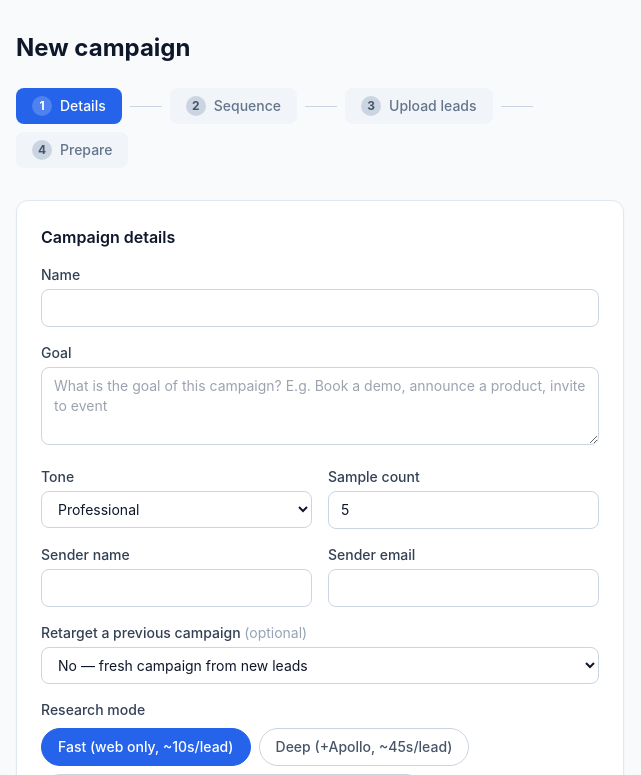
Test: Submitting step 1 › shows error on create failure
Expected: the heading "Campaign details" is shown, left=41, top=227, right=175, bottom=247
In the field labelled "Name": (320, 308) left=41, top=289, right=599, bottom=327, type "Spring outreach"
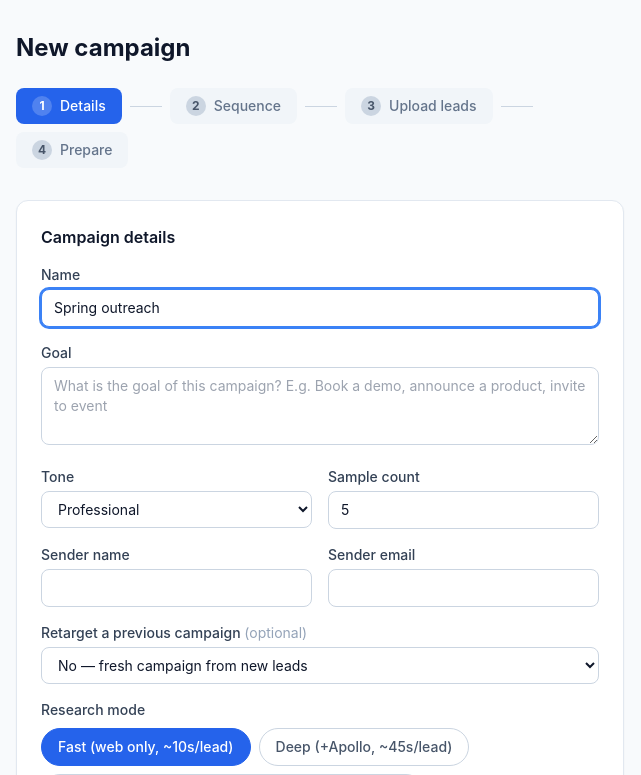
In the text box labelled "Goal": (320, 406) left=41, top=367, right=599, bottom=445, type "Book a discovery call"
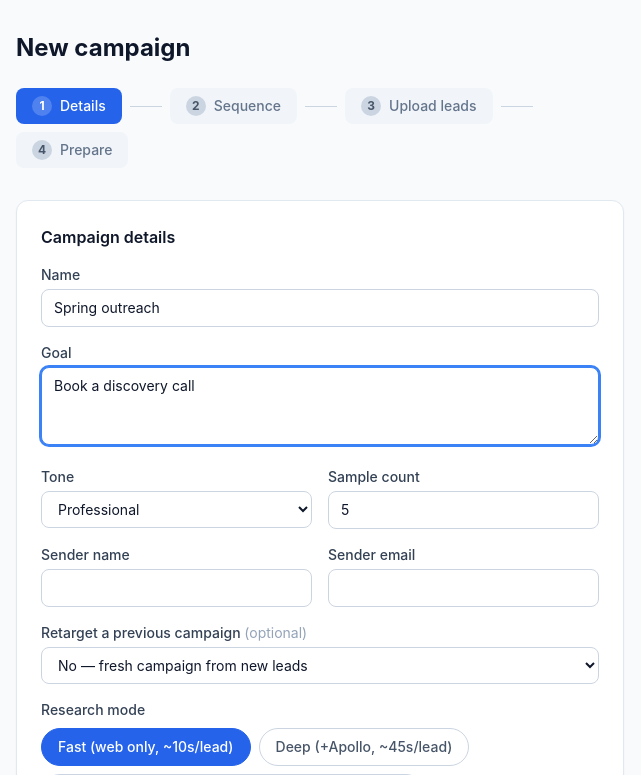
In the field labelled "Sender name": (176, 588) left=41, top=569, right=312, bottom=607, type "Anthony"
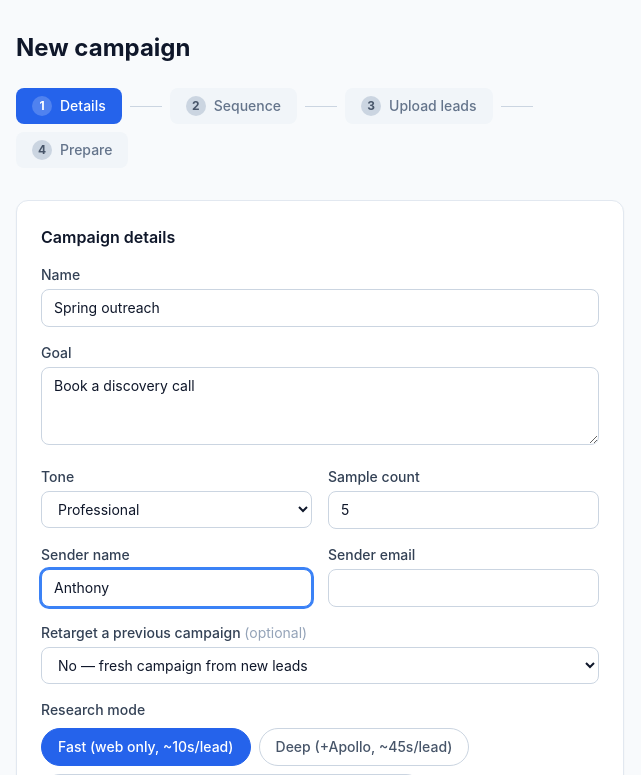
In the field labelled "Sender email": (464, 588) left=328, top=569, right=599, bottom=607, type "me@example.com"
(page scrolled)
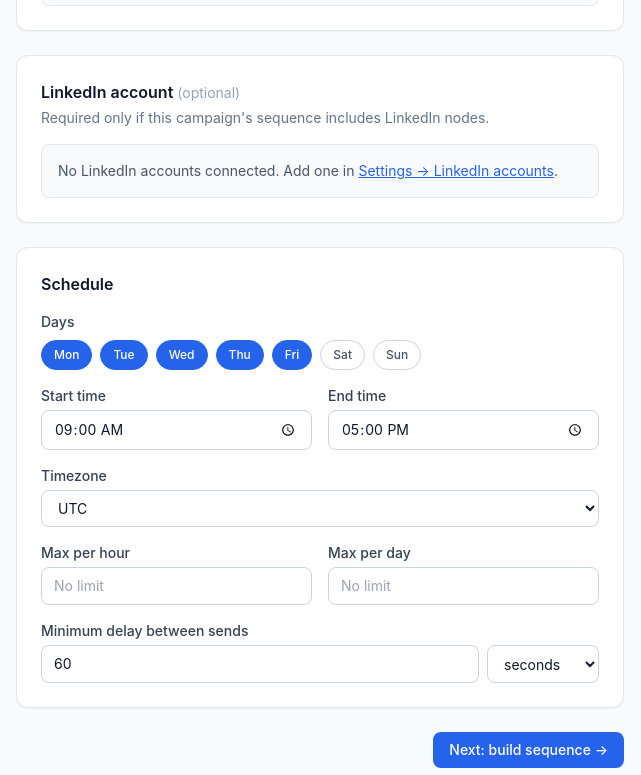
Click the button with test id "step1-submit": (529, 750) left=433, top=732, right=624, bottom=768
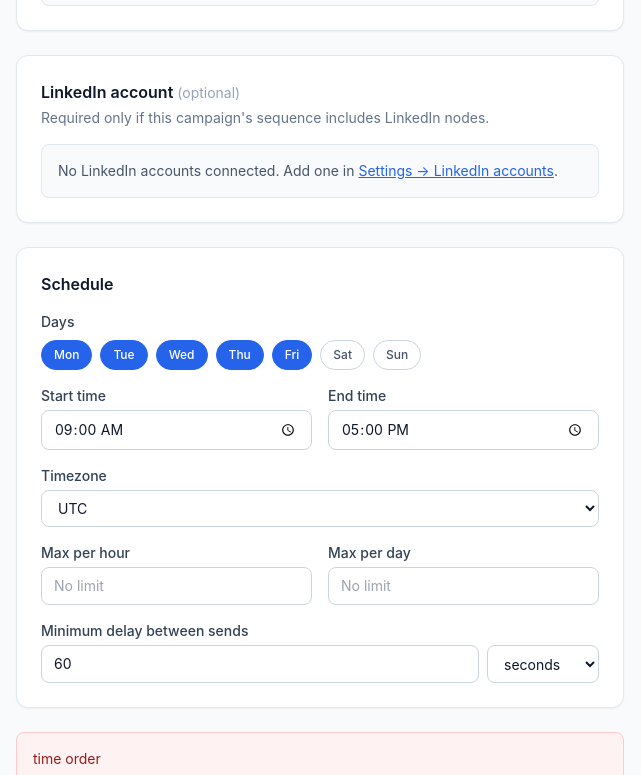
Expected: the text with test id "step1-error" reads "time order", left=33, top=750, right=101, bottom=767
